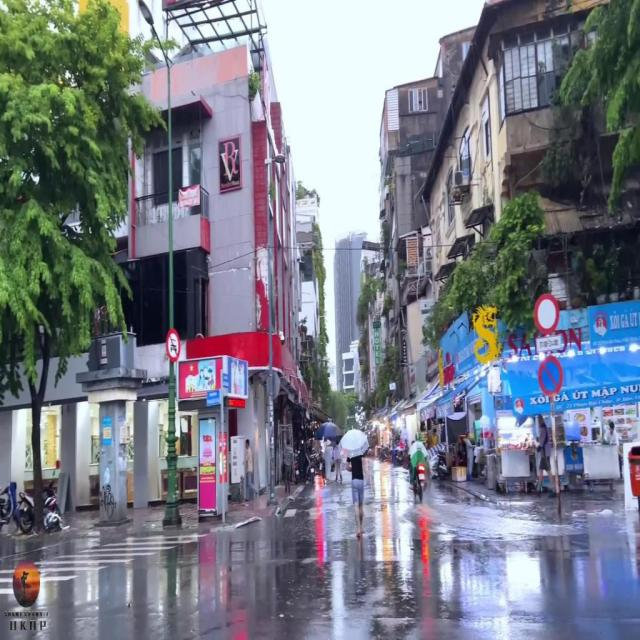cam_do_xe: (538, 355, 563, 398)
cam_o_to: (166, 328, 180, 363)
khac: (534, 292, 560, 335), (535, 335, 561, 353)
